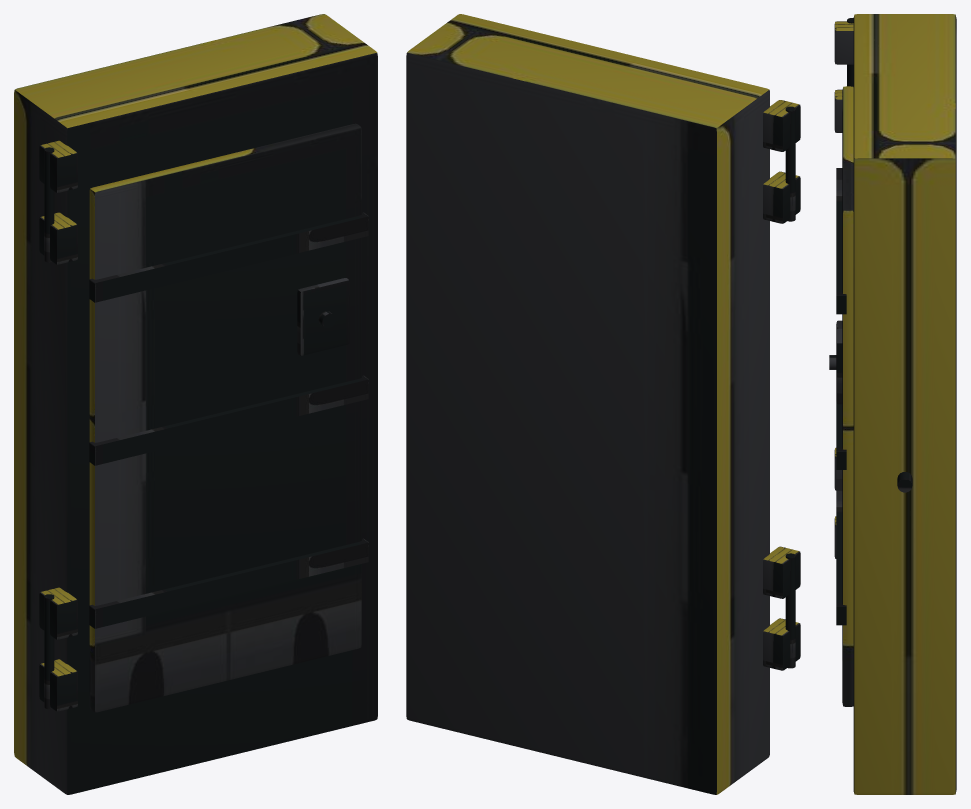
The model's file is DD_door_armored.glb.
3 renders of one model, left to right at view 1: azimuth 30°, elevation 25°; view 2: azimuth 150°, elevation 25°; view 3: azimuth 270°, elevation 25°, orthographic. The views are drawn at different scales.
Parts seen in each view (by area): view 1: DD_door_armored; view 2: DD_door_armored; view 3: DD_door_armored.
Boxes of the visible parts, x1,y1,x2,y2 form: DD_door_armored: [14, 14, 377, 794]; DD_door_armored: [406, 14, 800, 794]; DD_door_armored: [829, 14, 956, 794].
Bounding box in the file's own units: 1.12 × 2.05 × 0.37.
Materials: 1 (1 with a texture image).
